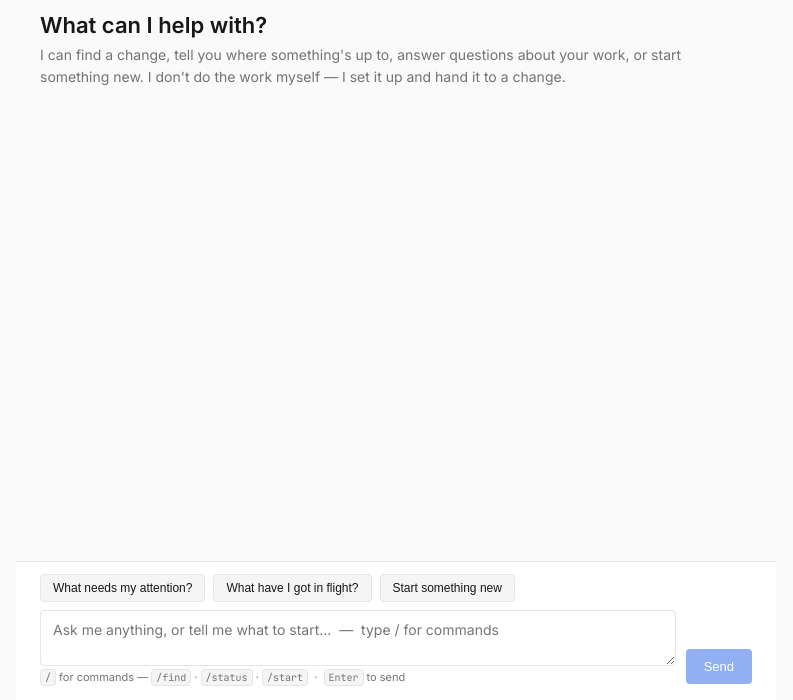
Test: <ConciergeChat /> — the read-only front door (FR-33; signed contract) › asks → streams a read-only answer and wears the read-only honesty tag
Replace the text in the text box named "ask the concierge" with "which change was the login fix in?": {"x": 358, "y": 638} [40,610,676,666]
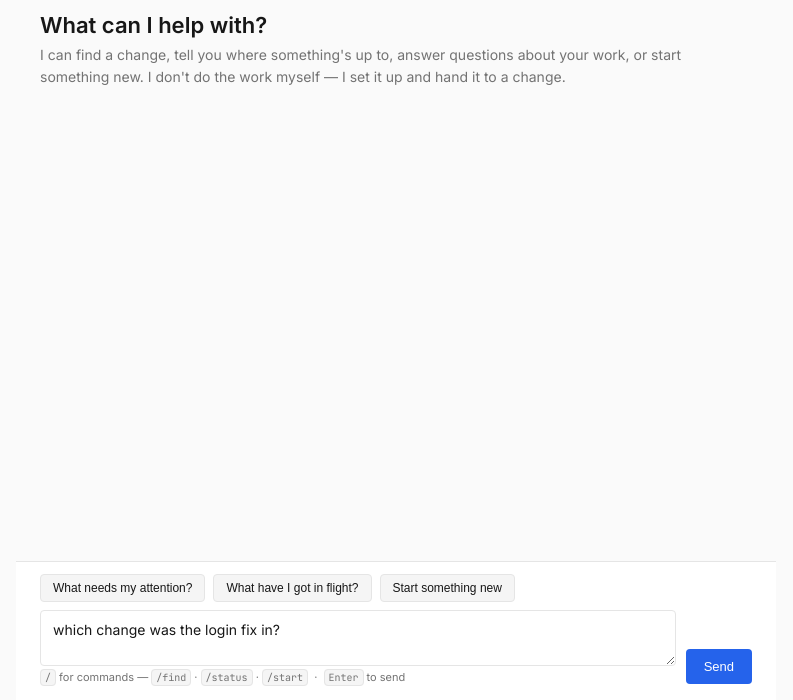
Press Enter in the text box named "ask the concierge", box [40,610,676,666]
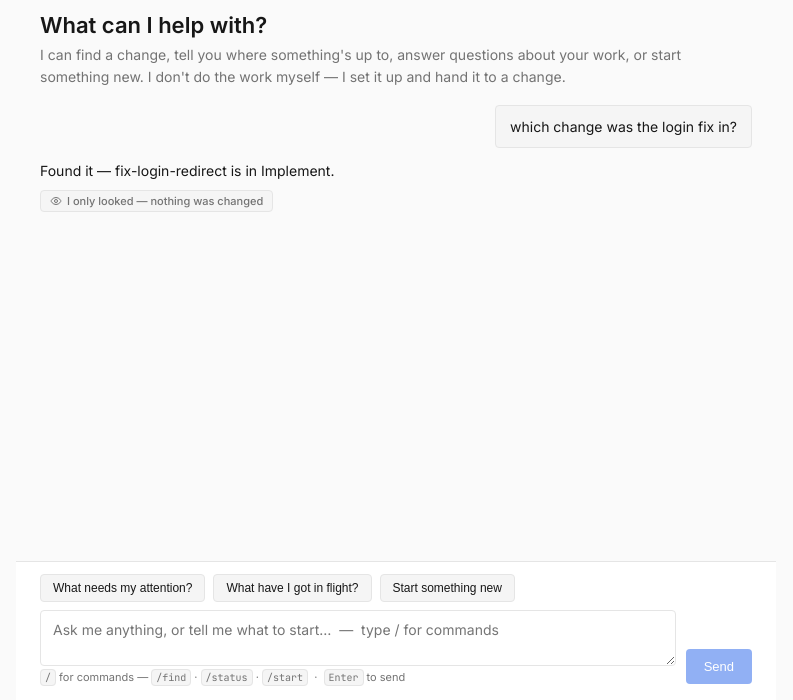
Now the text with test id "concierge-answer" shows "fix-login-redirect is in Implement.", box [40,162,334,179]
Now the element with test id "readonly-tag" is shown, box [40,190,273,212]
